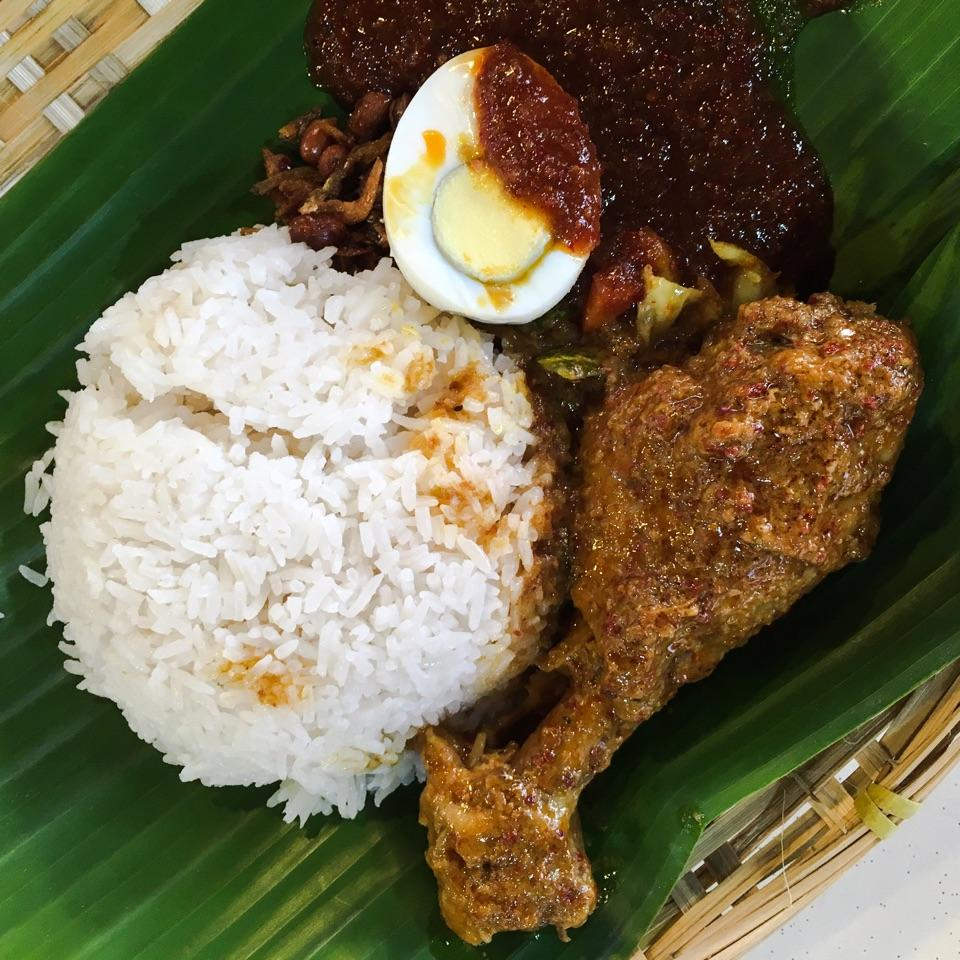Anchovies: (262, 102, 400, 272)
Boiled-Egg: (388, 59, 592, 325)
Peanuts: (529, 206, 694, 369)
Rendang-Chicken: (412, 293, 924, 950)
Rice: (47, 228, 551, 814)
Sambal: (310, 0, 834, 299)
